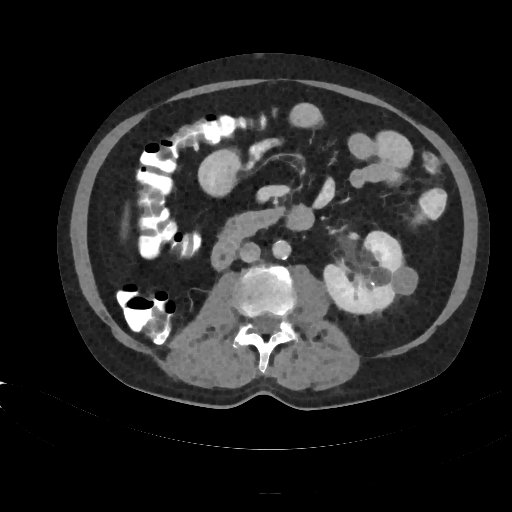Lesion: (390, 266, 418, 297)
